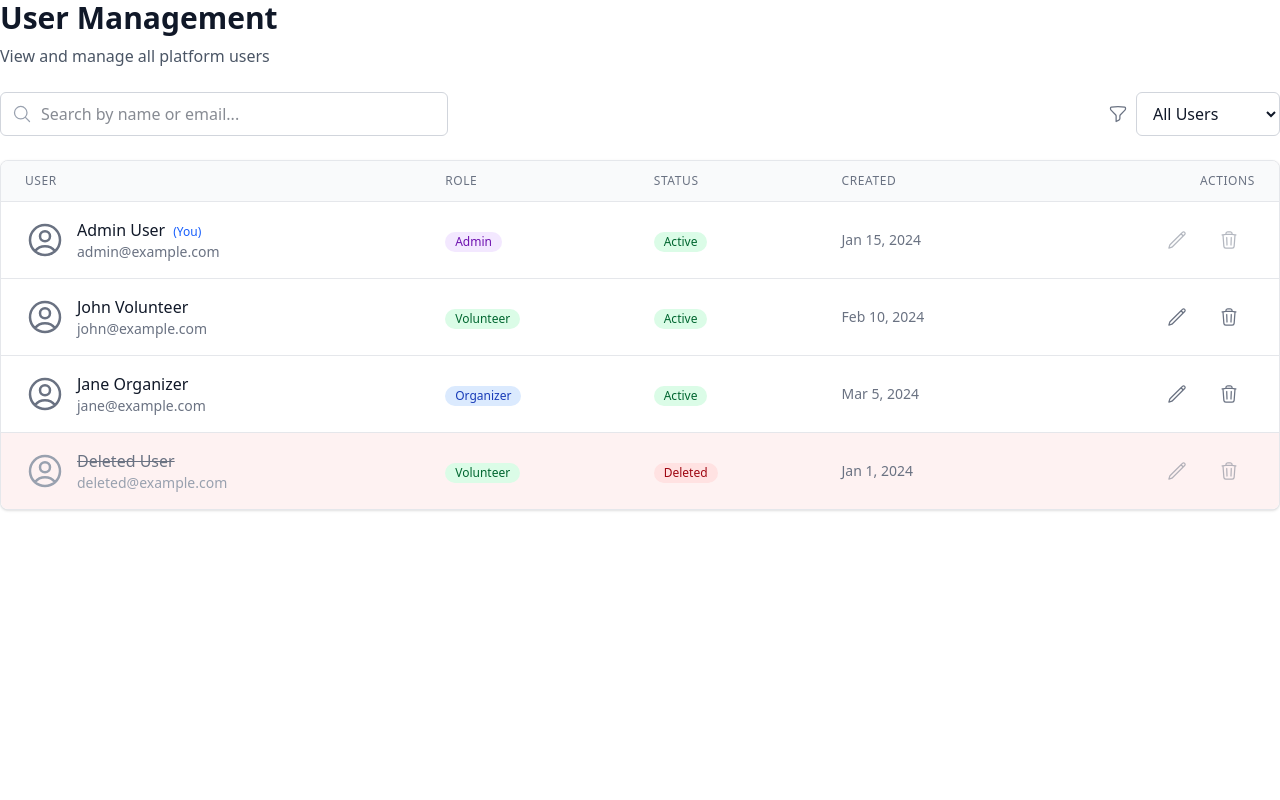
AdminUsersPage › opens delete confirmation modal when clicking delete button
Expected: the text "John Volunteer" is shown, top-left (77, 295), bottom-right (207, 319)
Click the button titled "Delete user" in the row of "John Volunteer".
click(1233, 317)  # box top-left (1211, 295), bottom-right (1255, 339)
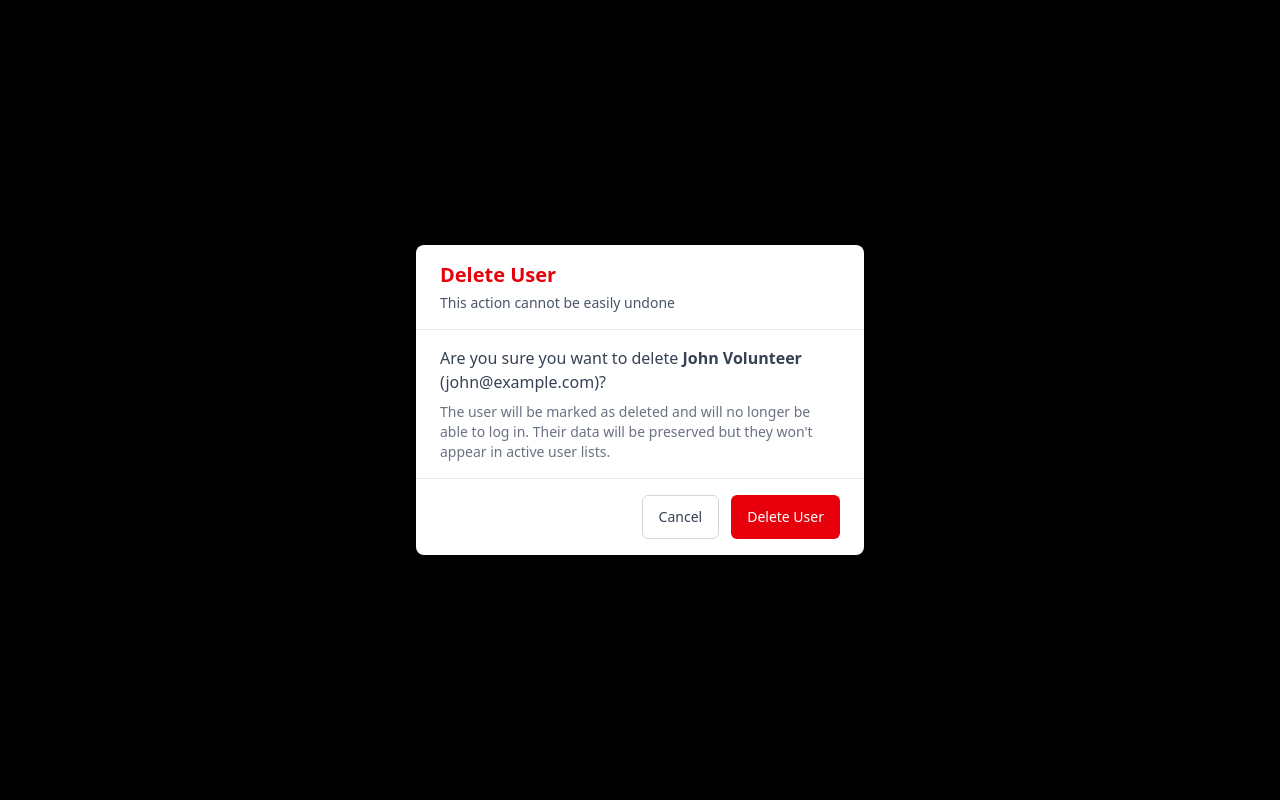
Now the heading "Delete User" is shown, box top-left (440, 261), bottom-right (556, 288)
Now the text "Are you sure you want to delete" is shown, box top-left (440, 347), bottom-right (682, 369)
